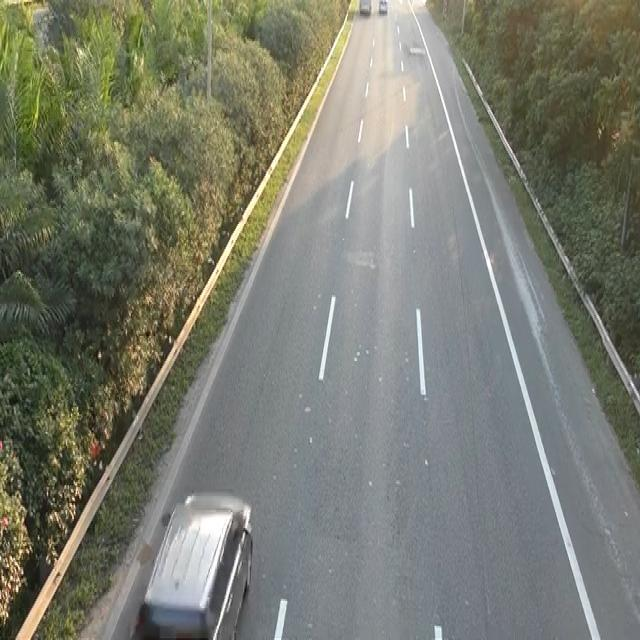car: (137, 485, 255, 635)
